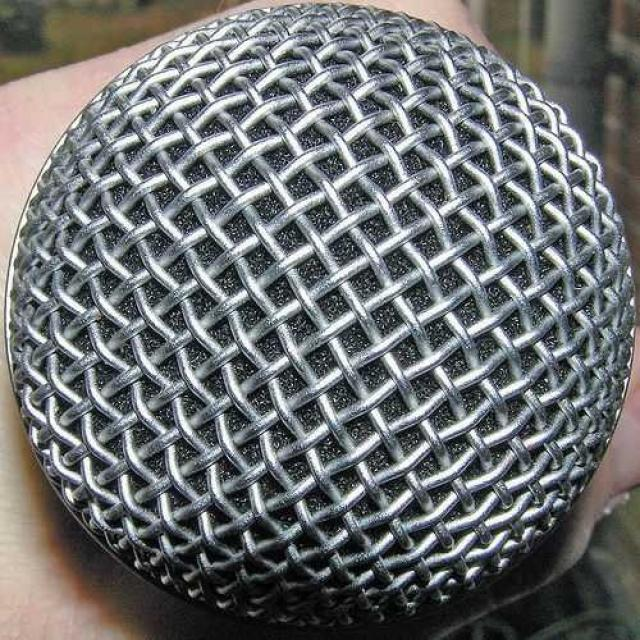microphone: (8, 9, 634, 630)
